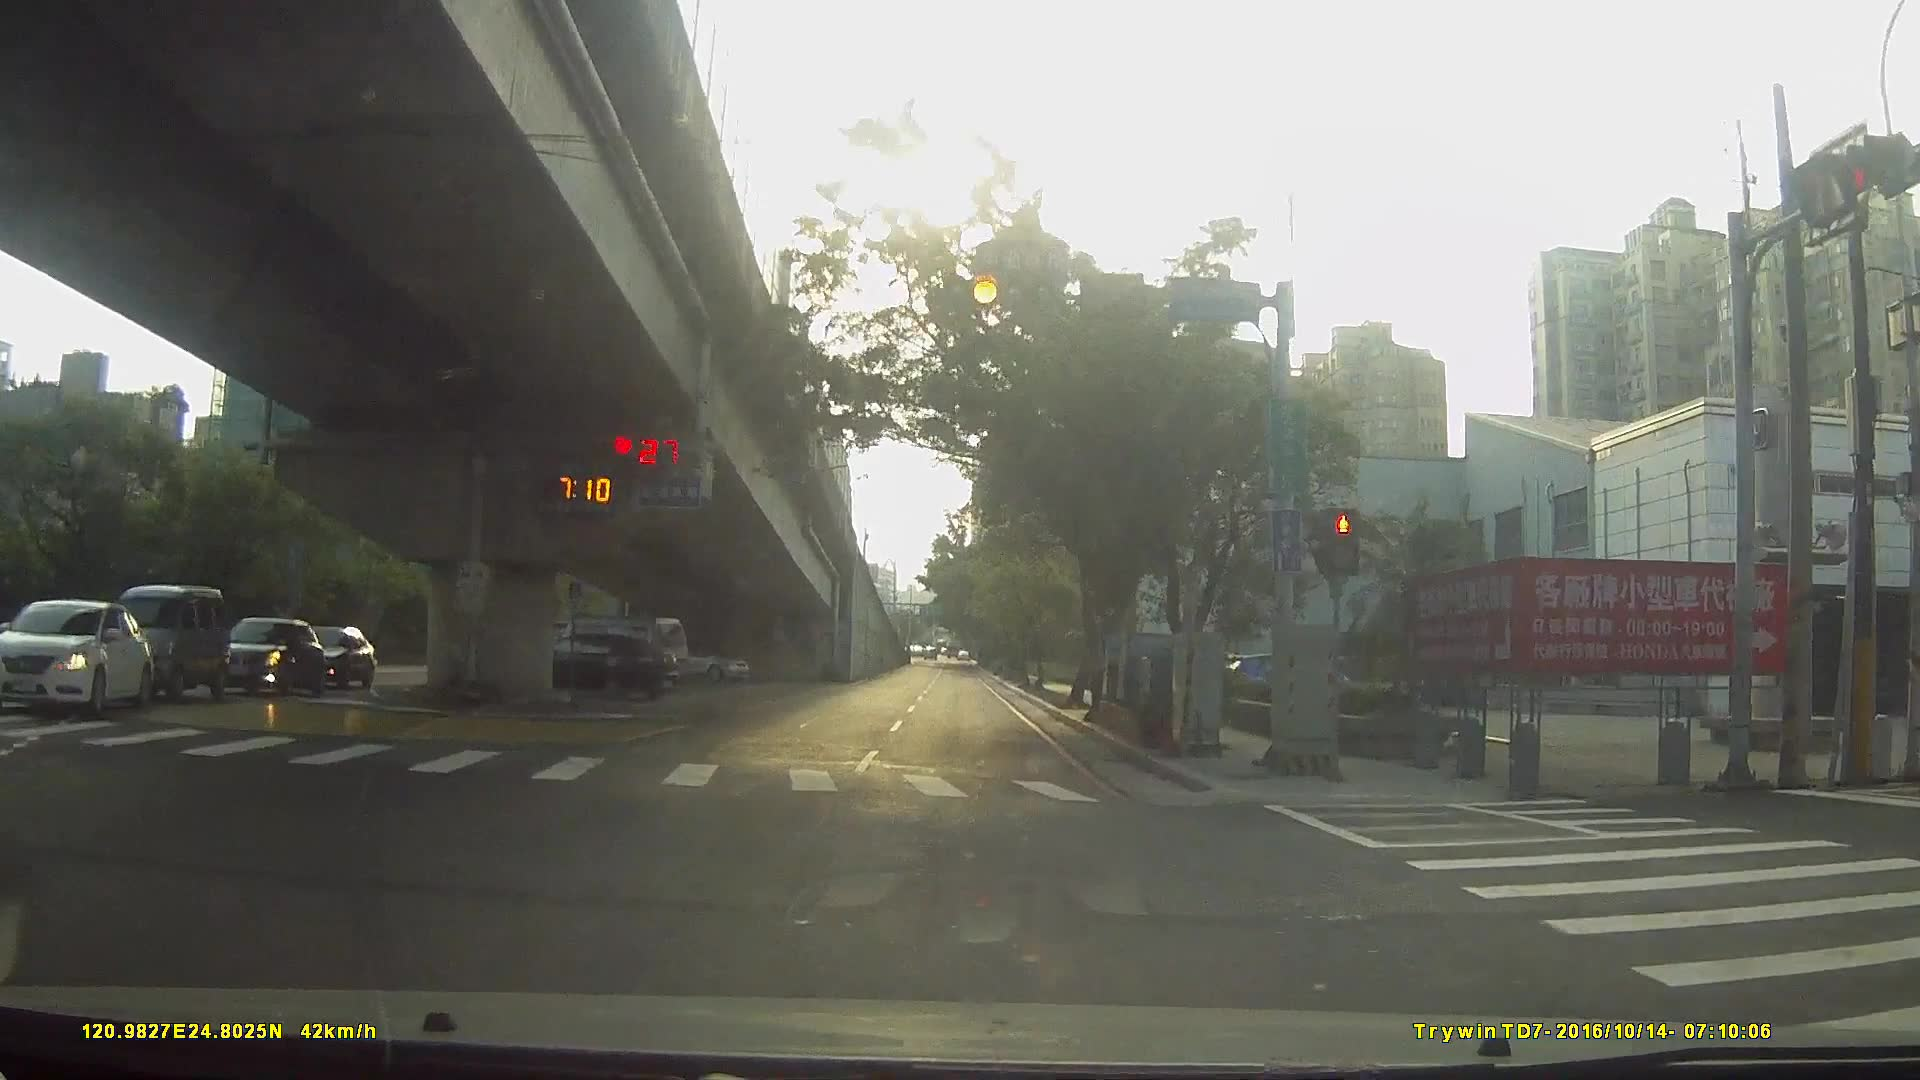vehicle: (4, 597, 161, 716), (102, 580, 220, 699), (513, 628, 676, 698), (203, 612, 320, 696), (280, 622, 373, 686), (654, 640, 750, 684)
